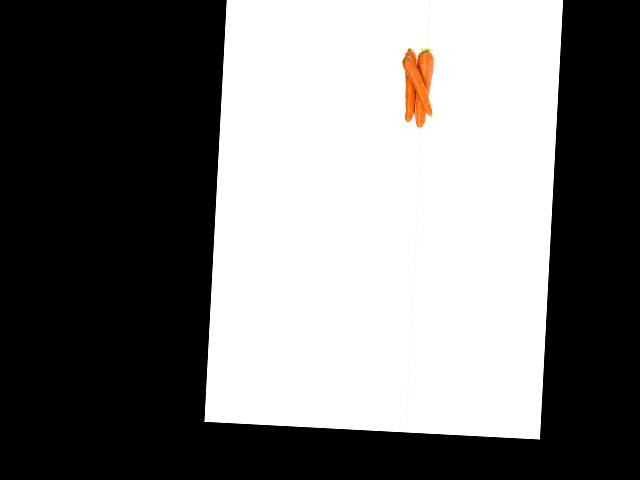carrot: (415, 47, 434, 131)
